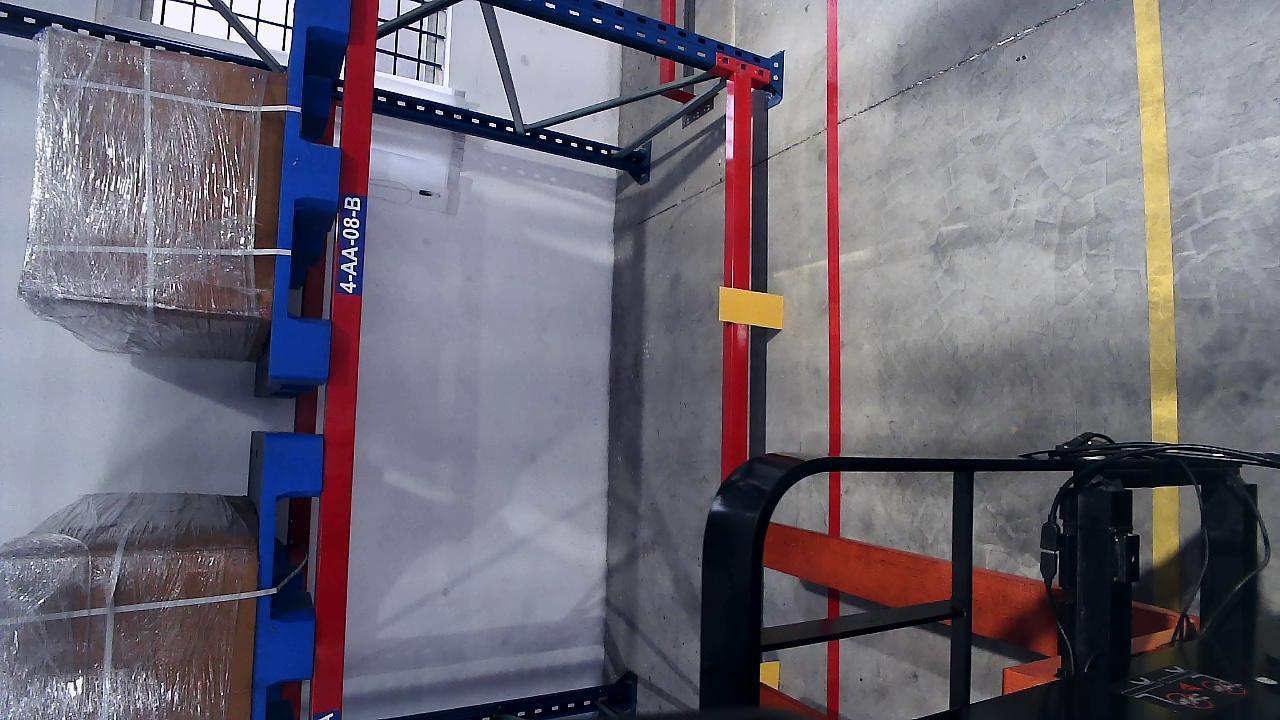red_line: (822, 6, 844, 706)
yellow_line: (1134, 0, 1180, 443)
